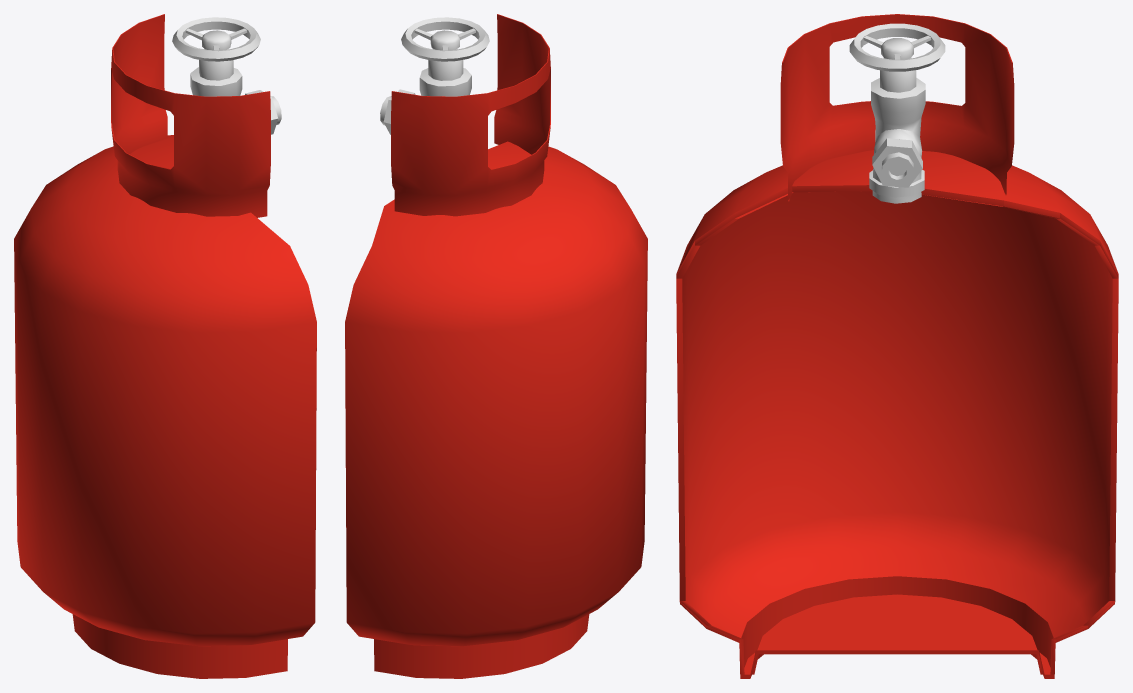
The model's file is propane-cut.fbx.
3 renders of one model, left to right at view 1: azimuth 30°, elevation 25°; view 2: azimuth 150°, elevation 25°; view 3: azimuth 270°, elevation 25°, orthographic. The views are drawn at different scales.
Parts seen in each view (by area): view 1: PropaneTank_low, Protective cover, Gas valve.001, Gas valve; view 2: PropaneTank_low, Protective cover, Gas valve.001, Gas valve; view 3: PropaneTank_low, Protective cover, Gas valve, Gas valve.001.
Boxes of the visible parts, left/top/right/bottom form: PropaneTank_low: left=14, top=135, right=316, bottom=678; Protective cover: left=111, top=14, right=270, bottom=217; Gas valve.001: left=172, top=17, right=260, bottom=61; Gas valve: left=190, top=48, right=281, bottom=134; PropaneTank_low: left=345, top=141, right=647, bottom=678; Protective cover: left=391, top=14, right=550, bottom=216; Gas valve.001: left=401, top=17, right=489, bottom=61; Gas valve: left=380, top=48, right=471, bottom=134; PropaneTank_low: left=676, top=150, right=1118, bottom=678; Protective cover: left=780, top=14, right=1014, bottom=201; Gas valve: left=869, top=58, right=925, bottom=203; Gas valve.001: left=849, top=23, right=945, bottom=71.
Size of the model in its own units: 19.28 by 45.89 by 28.87.
